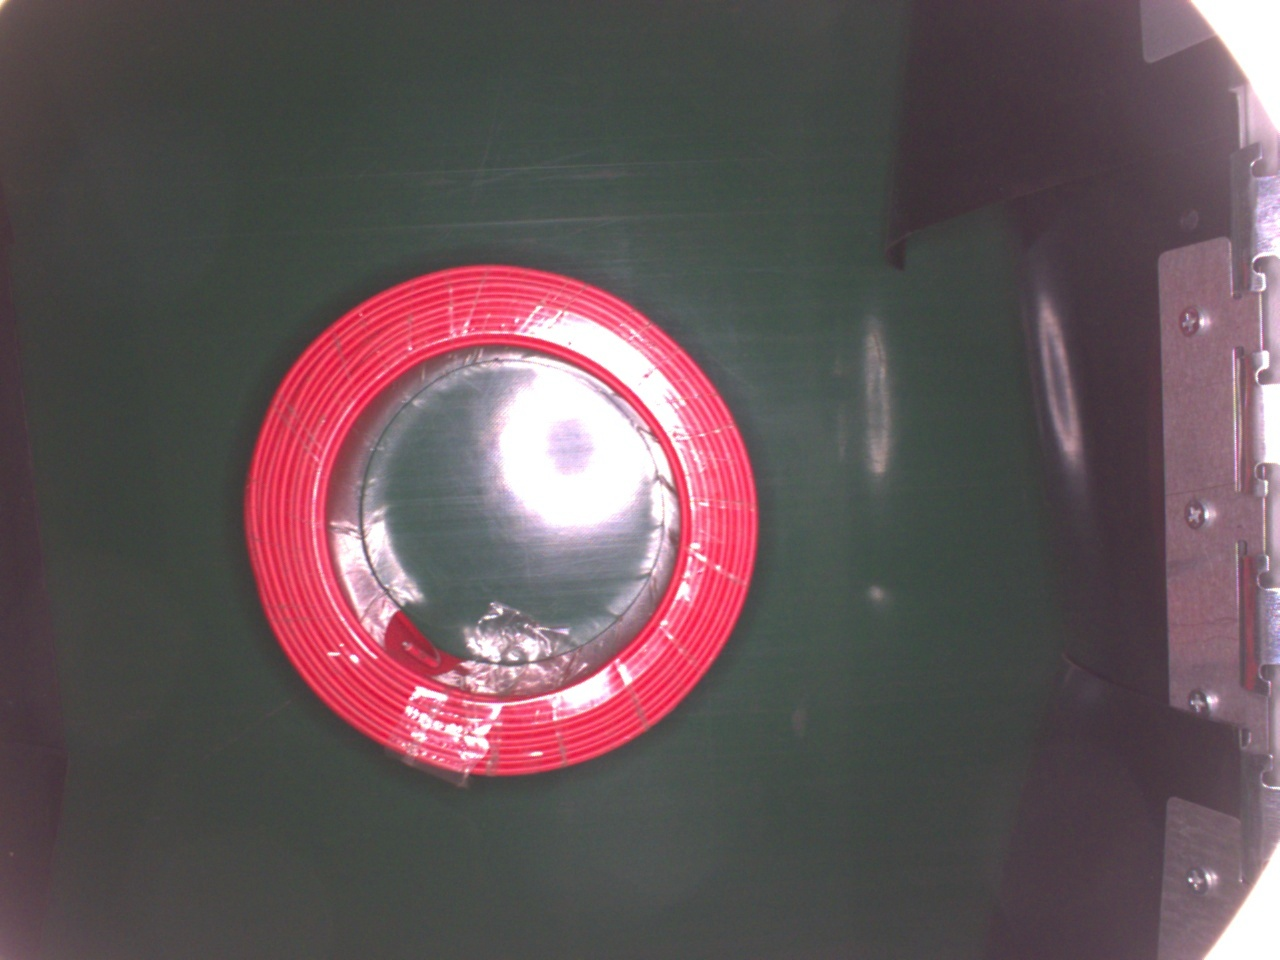red: (240, 259, 762, 775)
